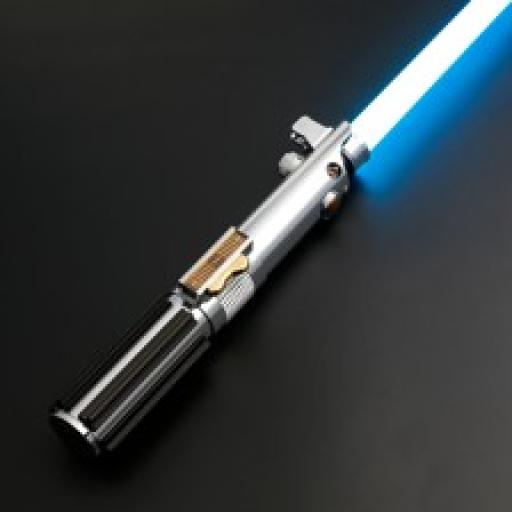lightsaber: (55, 0, 510, 462)
